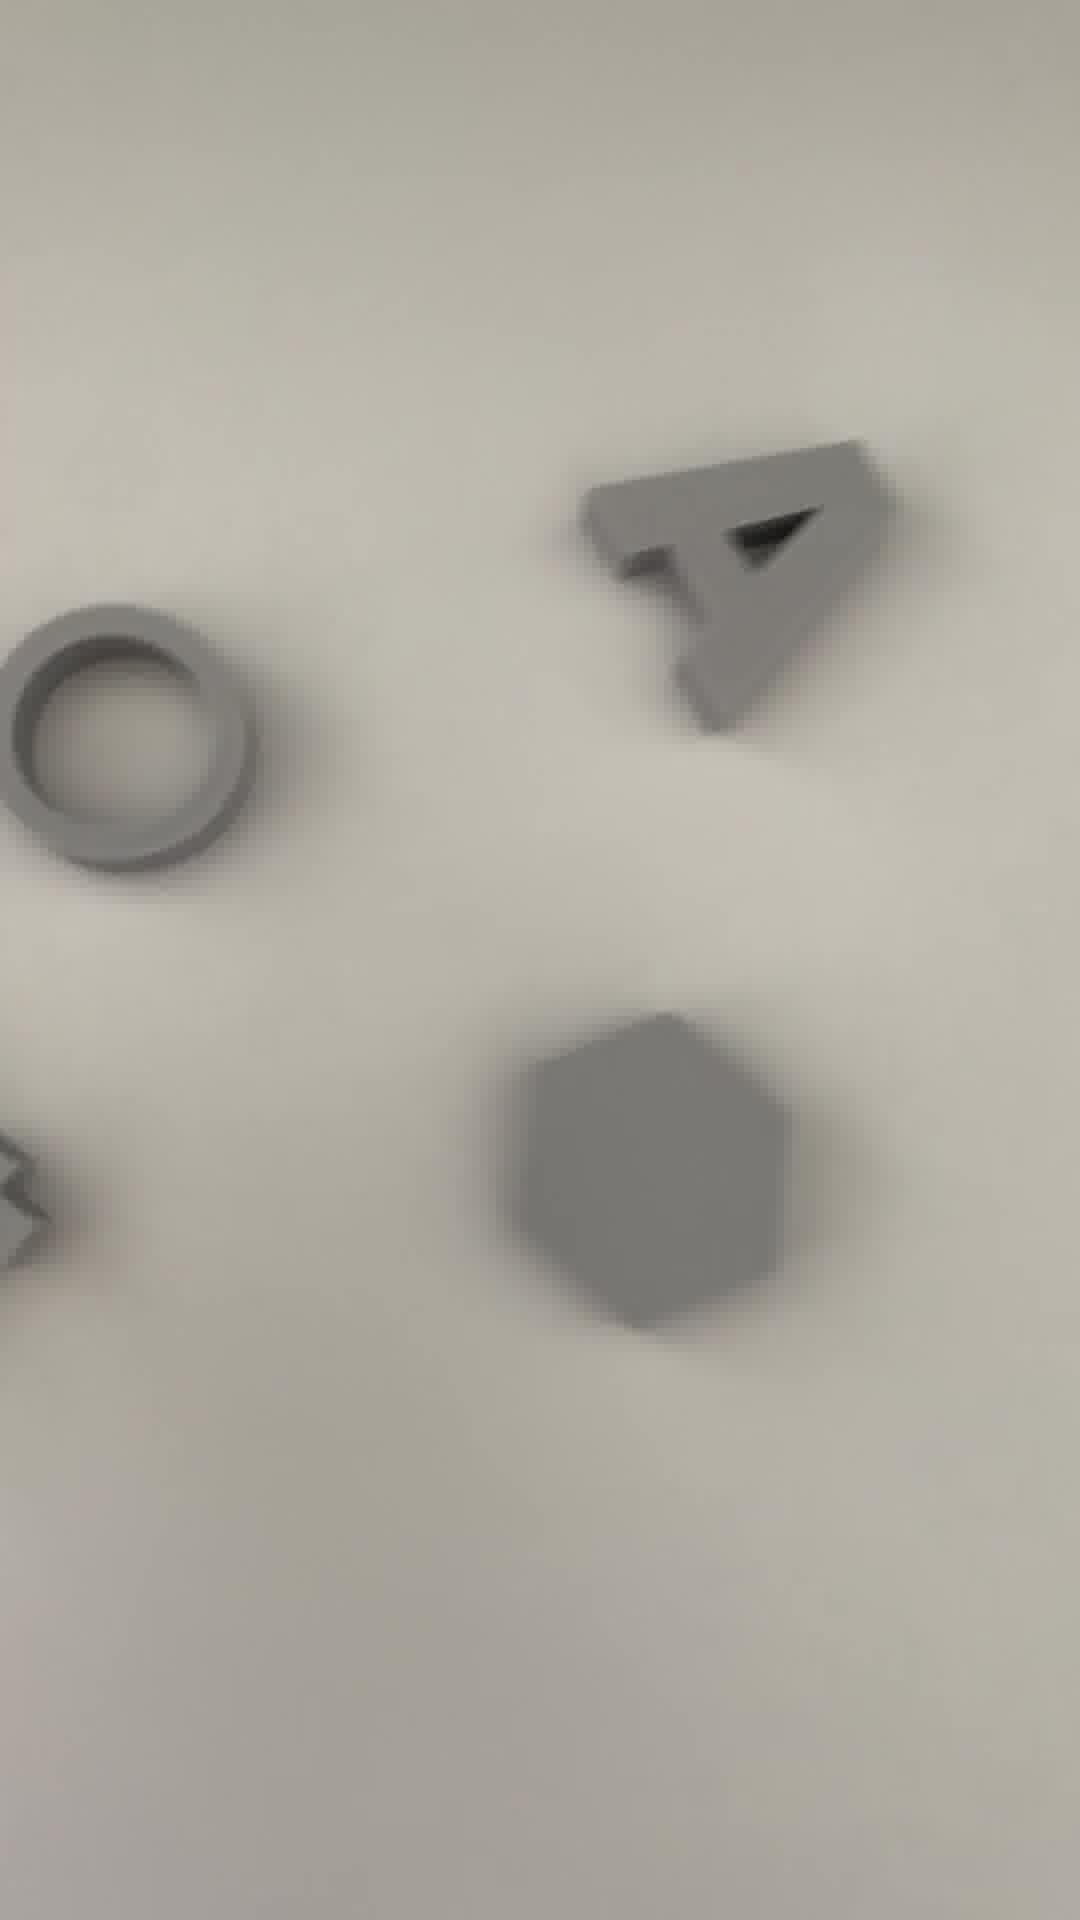Gray A-letter: (568, 427, 913, 733)
Gray hexagon: (498, 1030, 827, 1327)
Gray ring: (1, 607, 274, 866)
